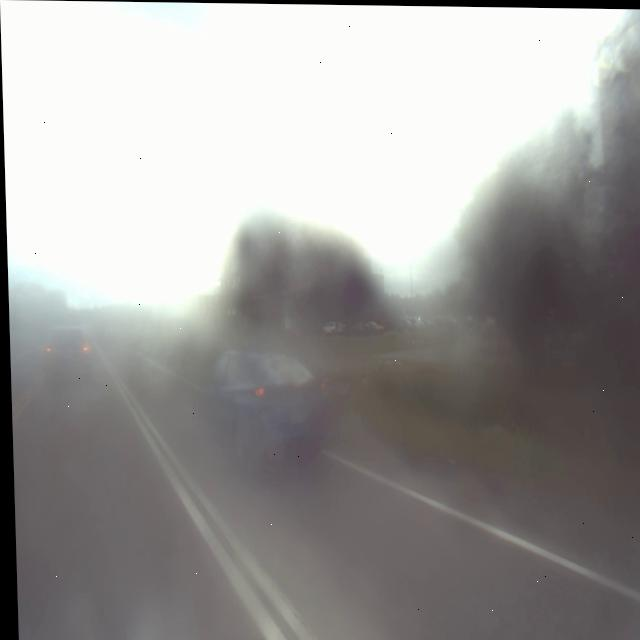car: (192, 310, 333, 477)
